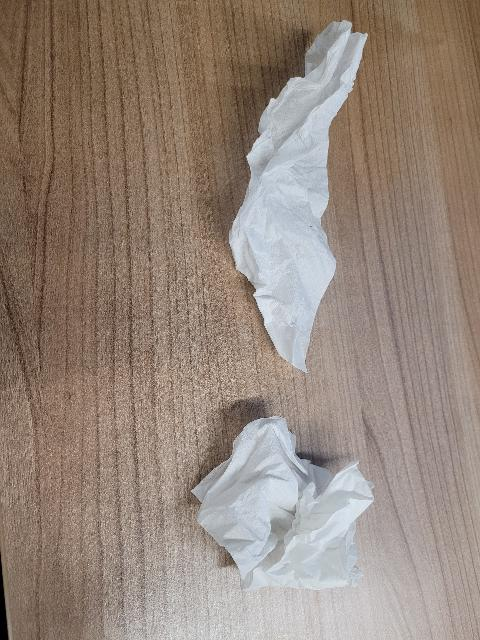Kagit: (231, 19, 372, 379), (188, 423, 363, 599)
